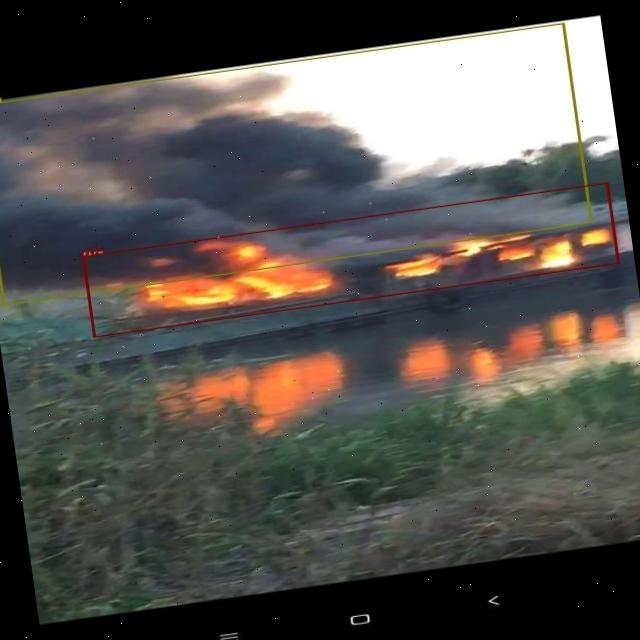fire: (82, 182, 620, 338)
smoke: (0, 23, 592, 306)
